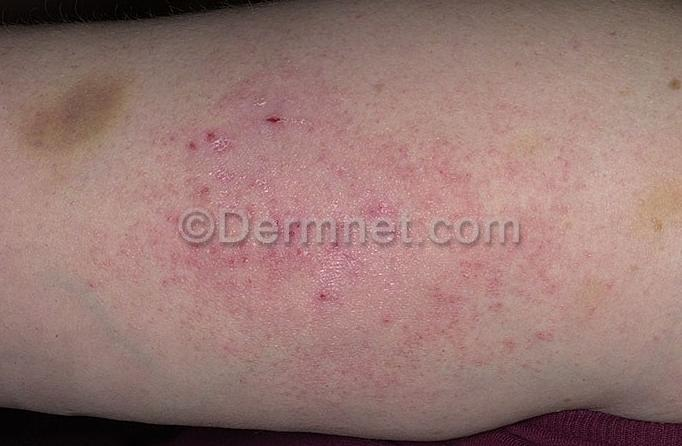Eritema 2: (146, 86, 579, 380)
excoriacioin 2: (163, 82, 559, 352)
exudacion 1: (179, 123, 225, 158), (262, 113, 289, 126)
